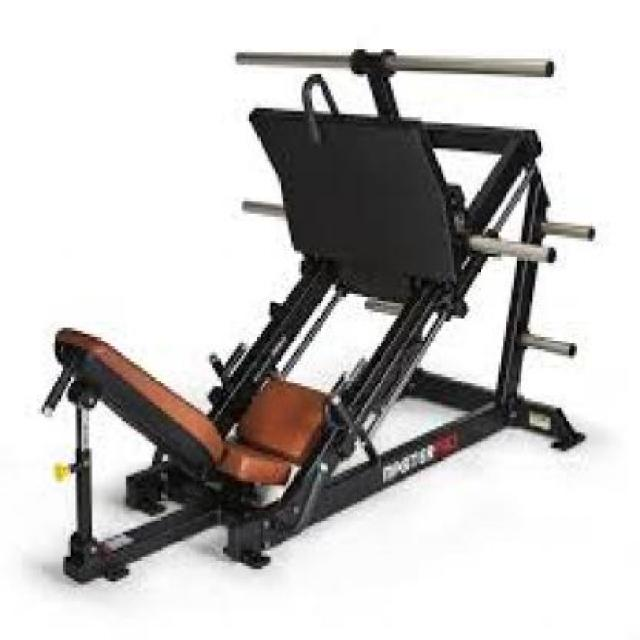leg press: (32, 31, 611, 603)
